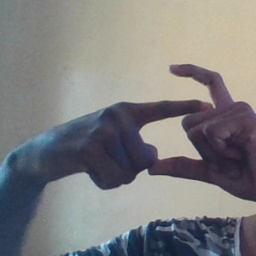E: (122, 56, 233, 178)
